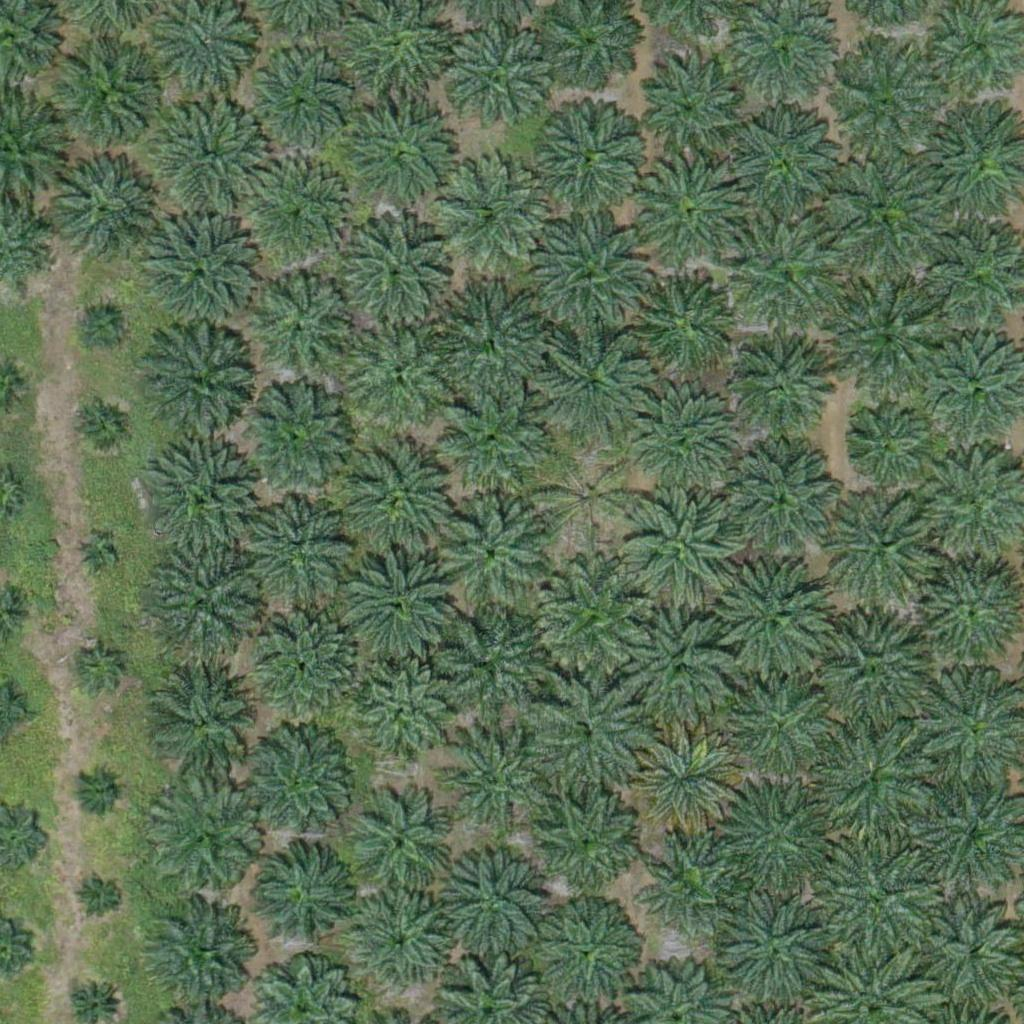Kelapa_Sawit: (343, 96, 468, 222), (826, 278, 951, 404), (810, 719, 935, 845), (816, 838, 941, 964), (328, 204, 453, 330), (157, 98, 270, 212), (827, 490, 940, 604), (631, 153, 744, 267), (726, 443, 839, 557), (150, 784, 263, 898), (827, 48, 940, 161), (640, 53, 753, 166), (533, 99, 646, 212), (813, 615, 926, 728), (714, 560, 827, 673), (43, 154, 156, 267), (147, 443, 260, 556), (148, 545, 261, 658), (148, 660, 261, 773), (235, 154, 348, 267), (344, 315, 457, 428), (431, 608, 544, 721), (439, 500, 552, 613), (435, 383, 548, 496), (429, 285, 542, 398), (535, 561, 648, 674), (729, 213, 842, 326), (629, 726, 742, 839), (531, 679, 644, 792), (527, 784, 640, 897), (240, 729, 353, 842), (49, 42, 161, 156), (435, 154, 547, 268), (535, 214, 647, 328), (630, 391, 742, 505), (143, 903, 255, 1017), (727, 2, 839, 115), (731, 104, 843, 217), (444, 28, 556, 141), (828, 158, 940, 271), (726, 670, 838, 783), (716, 779, 828, 892), (716, 890, 828, 1003), (145, 220, 257, 333), (145, 332, 257, 445), (242, 381, 354, 494), (249, 266, 361, 379), (347, 439, 459, 552), (343, 546, 455, 659), (537, 326, 649, 439), (622, 610, 734, 723), (623, 488, 735, 601), (439, 724, 551, 837), (538, 448, 638, 549), (248, 59, 348, 160), (258, 612, 358, 713), (254, 498, 354, 599), (355, 666, 455, 767), (537, 904, 637, 1005), (444, 849, 544, 950), (352, 798, 452, 899), (633, 275, 733, 375), (732, 333, 832, 433), (353, 891, 453, 991), (257, 845, 357, 945), (647, 841, 734, 930), (846, 409, 921, 485), (75, 641, 125, 692), (71, 765, 121, 816), (75, 873, 125, 923), (77, 301, 127, 351), (78, 404, 128, 454), (77, 536, 115, 574)
